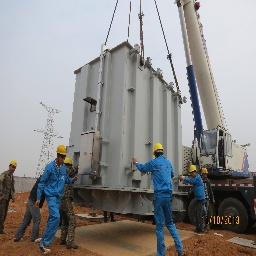helmet: (151, 141, 164, 160), (55, 143, 68, 158)
person: (145, 141, 179, 256), (41, 139, 69, 256), (187, 163, 206, 233), (0, 159, 16, 234)
